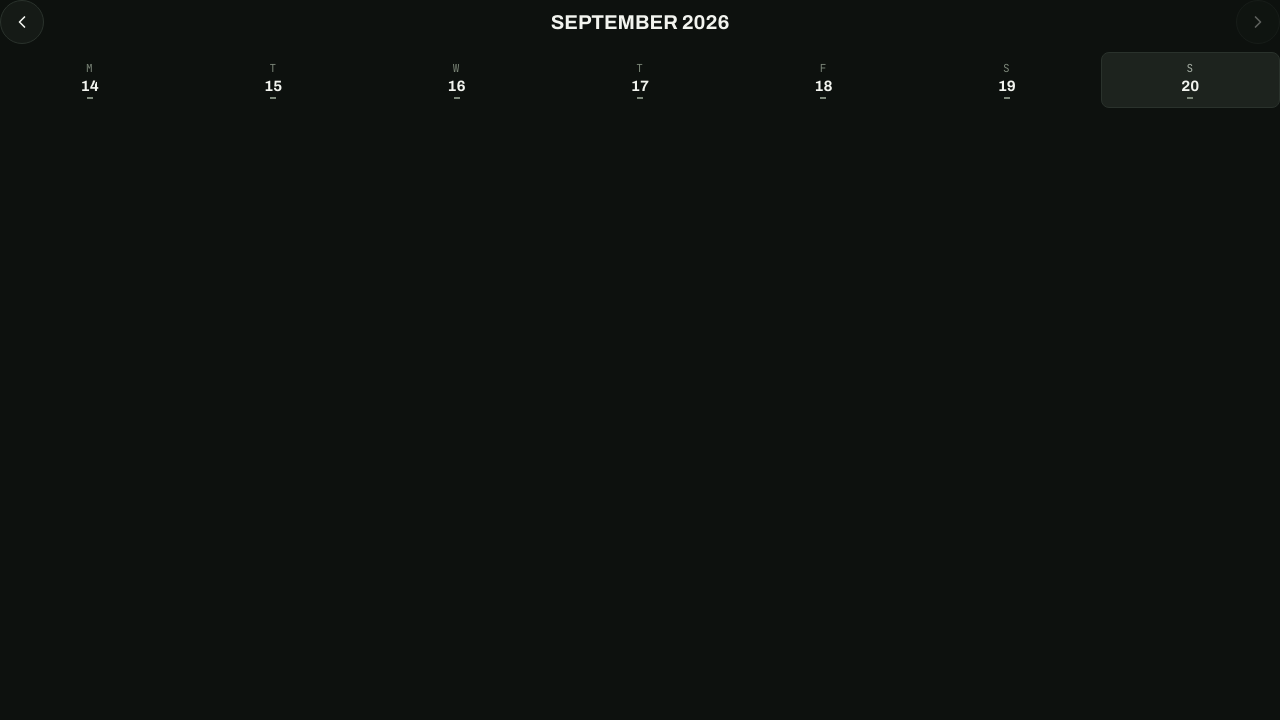
Test: WeekCalendarComponent › the jump sheet renders the "Calendar" title
The width and height of the screenshot is (1280, 720).
Step 1. Click the button with test id "wc-jump-open" → click(640, 22), box [52,0,1228,44]
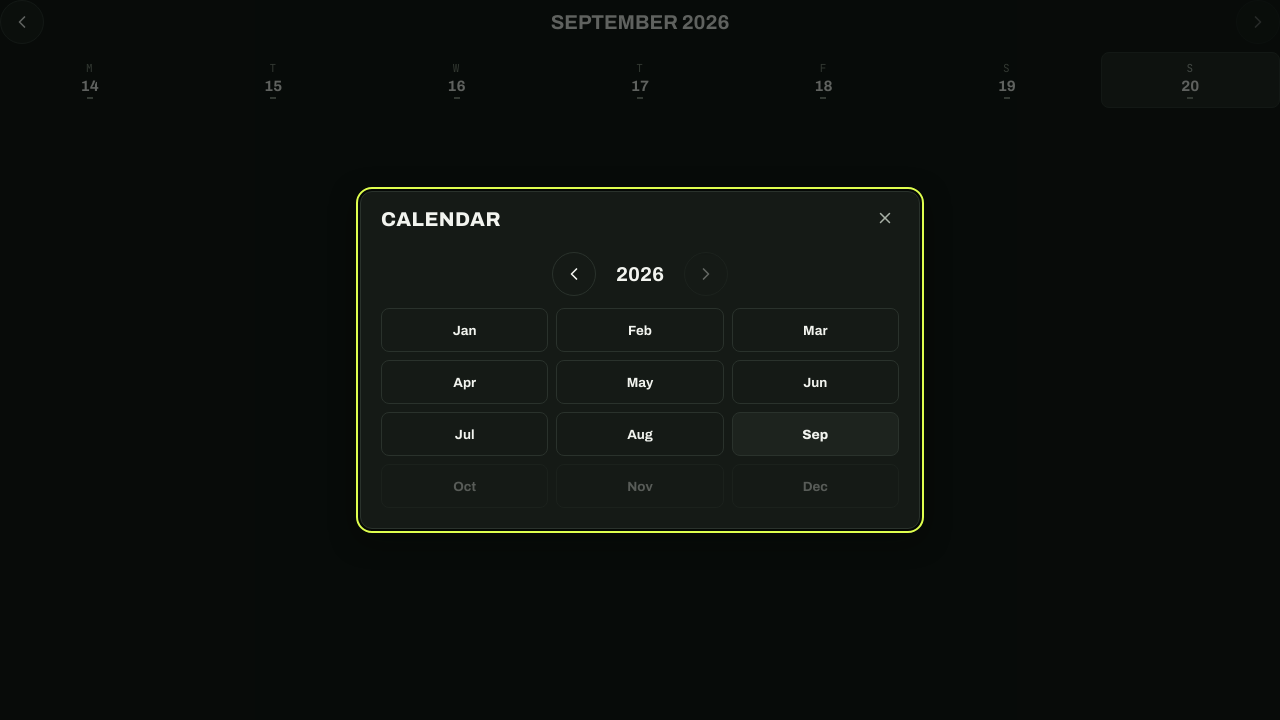
Check: the heading with class "sh-title" reads "Calendar", box [381,208,501,230]
